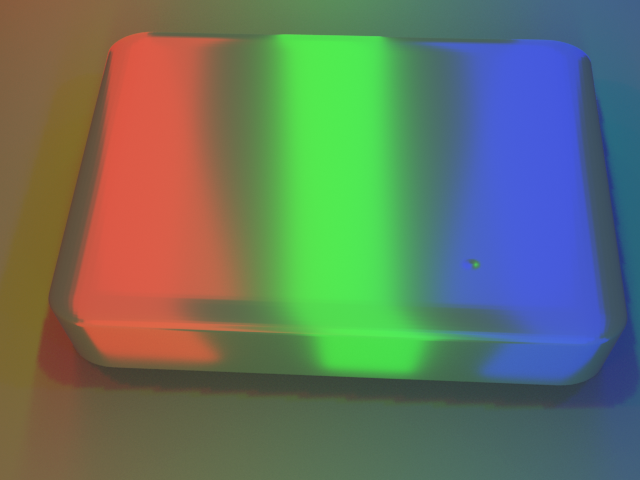dent: (464, 247, 511, 282)
